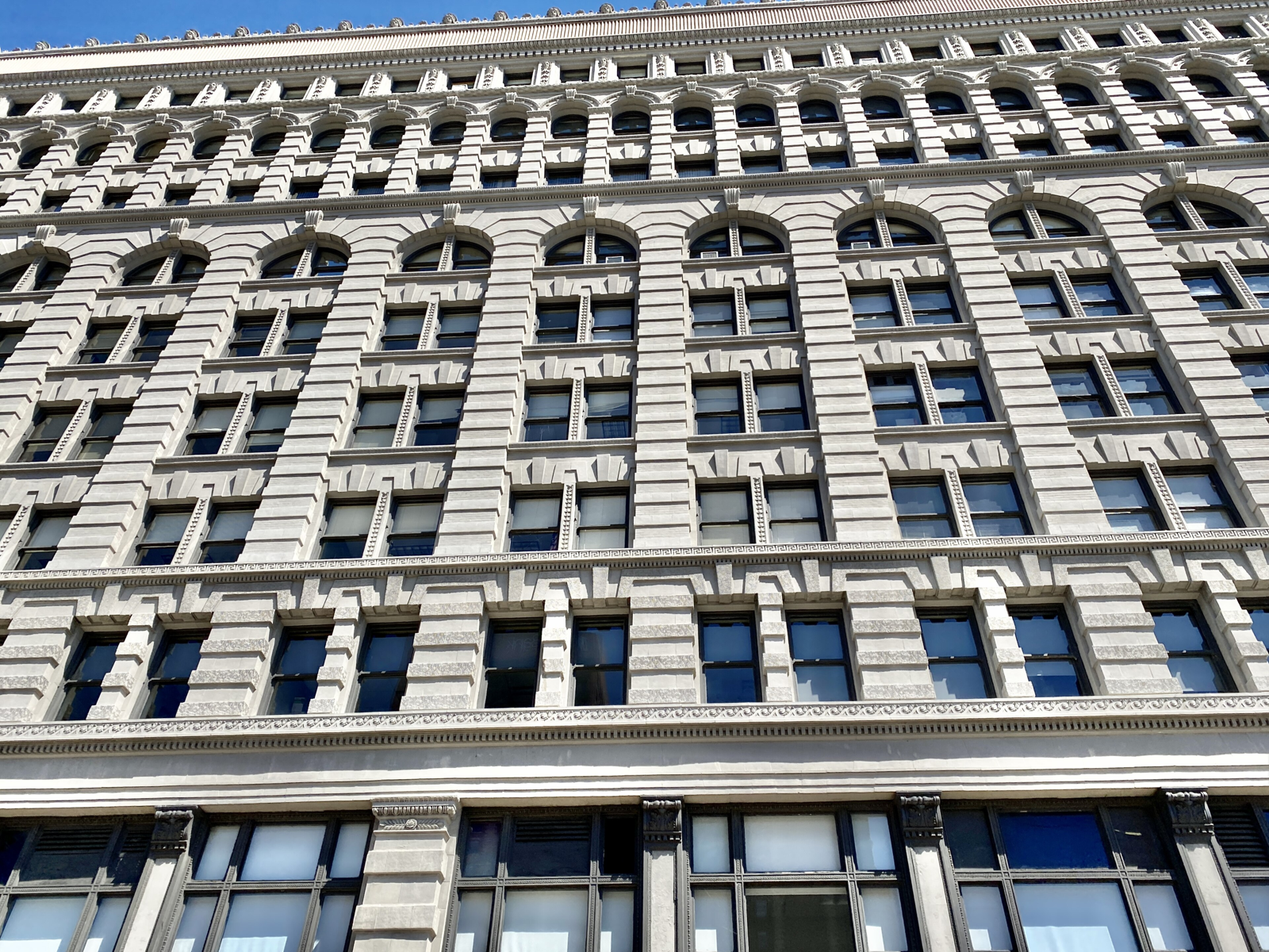fachada: (5, 21, 1269, 952)
